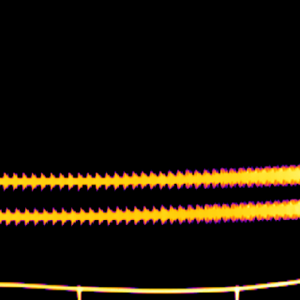insulator: (0, 166, 300, 225)
